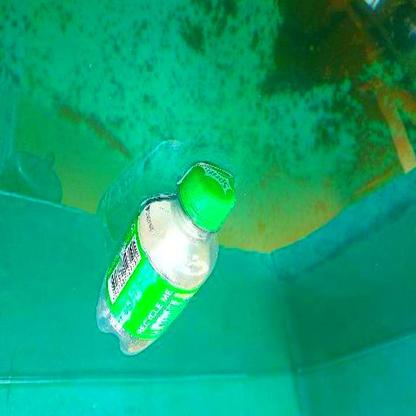plastic bottle: (95, 163, 235, 354)
